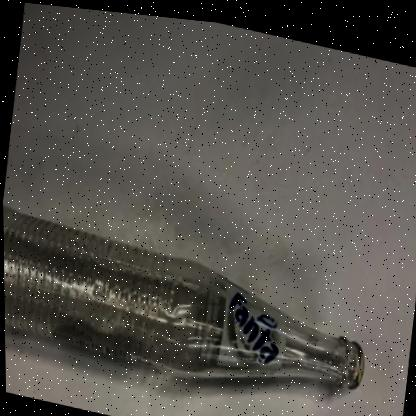Glass: (2, 207, 364, 382)
